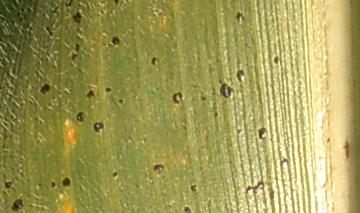tarspot: (244, 181, 265, 196), (218, 83, 235, 100), (10, 198, 25, 212), (341, 140, 351, 160), (91, 120, 105, 134), (234, 69, 247, 83), (74, 111, 88, 124), (256, 126, 268, 141), (171, 91, 183, 105), (71, 11, 83, 25), (38, 83, 51, 95), (61, 176, 73, 188), (42, 26, 54, 38), (234, 11, 245, 24), (153, 164, 164, 175), (26, 25, 35, 38), (189, 182, 199, 193), (3, 180, 14, 190), (149, 56, 159, 66), (279, 157, 290, 166), (111, 36, 120, 46), (85, 89, 95, 98), (70, 53, 80, 62), (272, 56, 281, 65), (182, 205, 192, 213), (52, 4, 60, 14), (74, 41, 81, 52), (199, 95, 208, 103), (49, 180, 57, 189), (104, 85, 112, 94), (325, 135, 332, 145), (64, 1, 73, 8), (111, 170, 118, 178), (25, 6, 33, 13), (18, 6, 25, 14), (212, 111, 219, 118), (117, 98, 124, 104), (112, 1, 120, 6), (17, 16, 22, 22), (15, 1, 22, 5)
